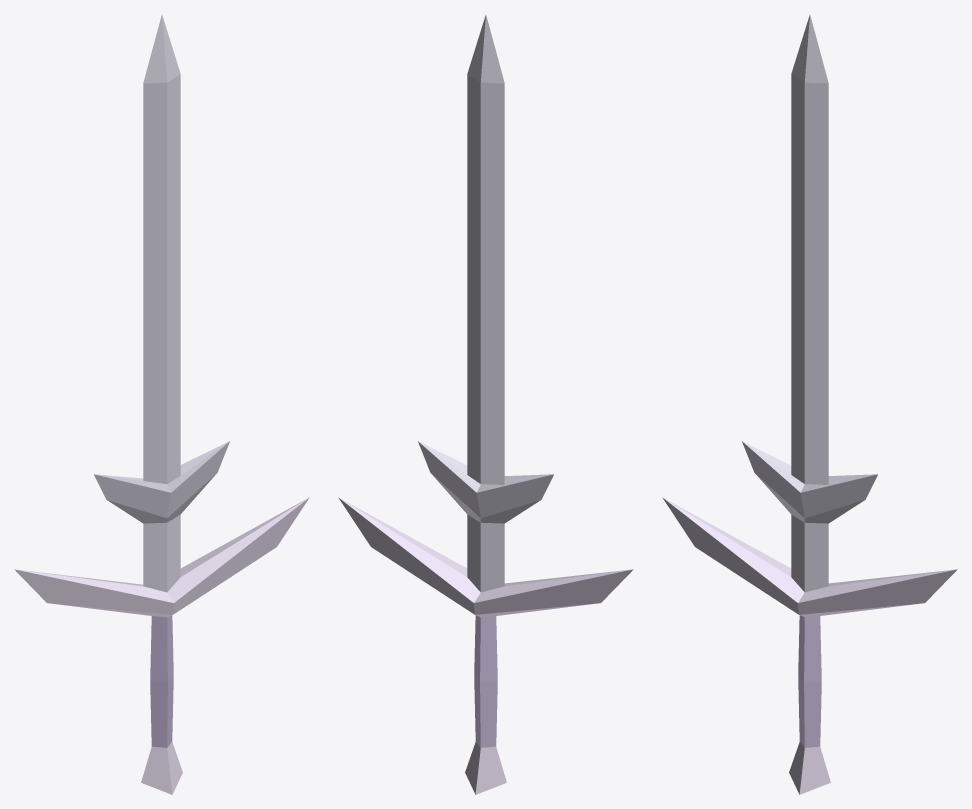
Rendered from Sword5star.fbx.
The picture shows the model from 3 angles, left to right: view 1: azimuth 30°, elevation 25°; view 2: azimuth 150°, elevation 25°; view 3: azimuth 330°, elevation 25°; orthographic projection.
Visible parts, largest first — view 1: Cylinder; view 2: Cylinder; view 3: Cylinder.
Part boxes in pixels (<box>): Cylinder: <box>14,15,309,794</box>; Cylinder: <box>338,15,633,794</box>; Cylinder: <box>662,15,957,794</box>.
Size of the model in its own units: 577 by 1442 by 81.62.
